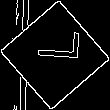L_W: (29, 38, 81, 72)
